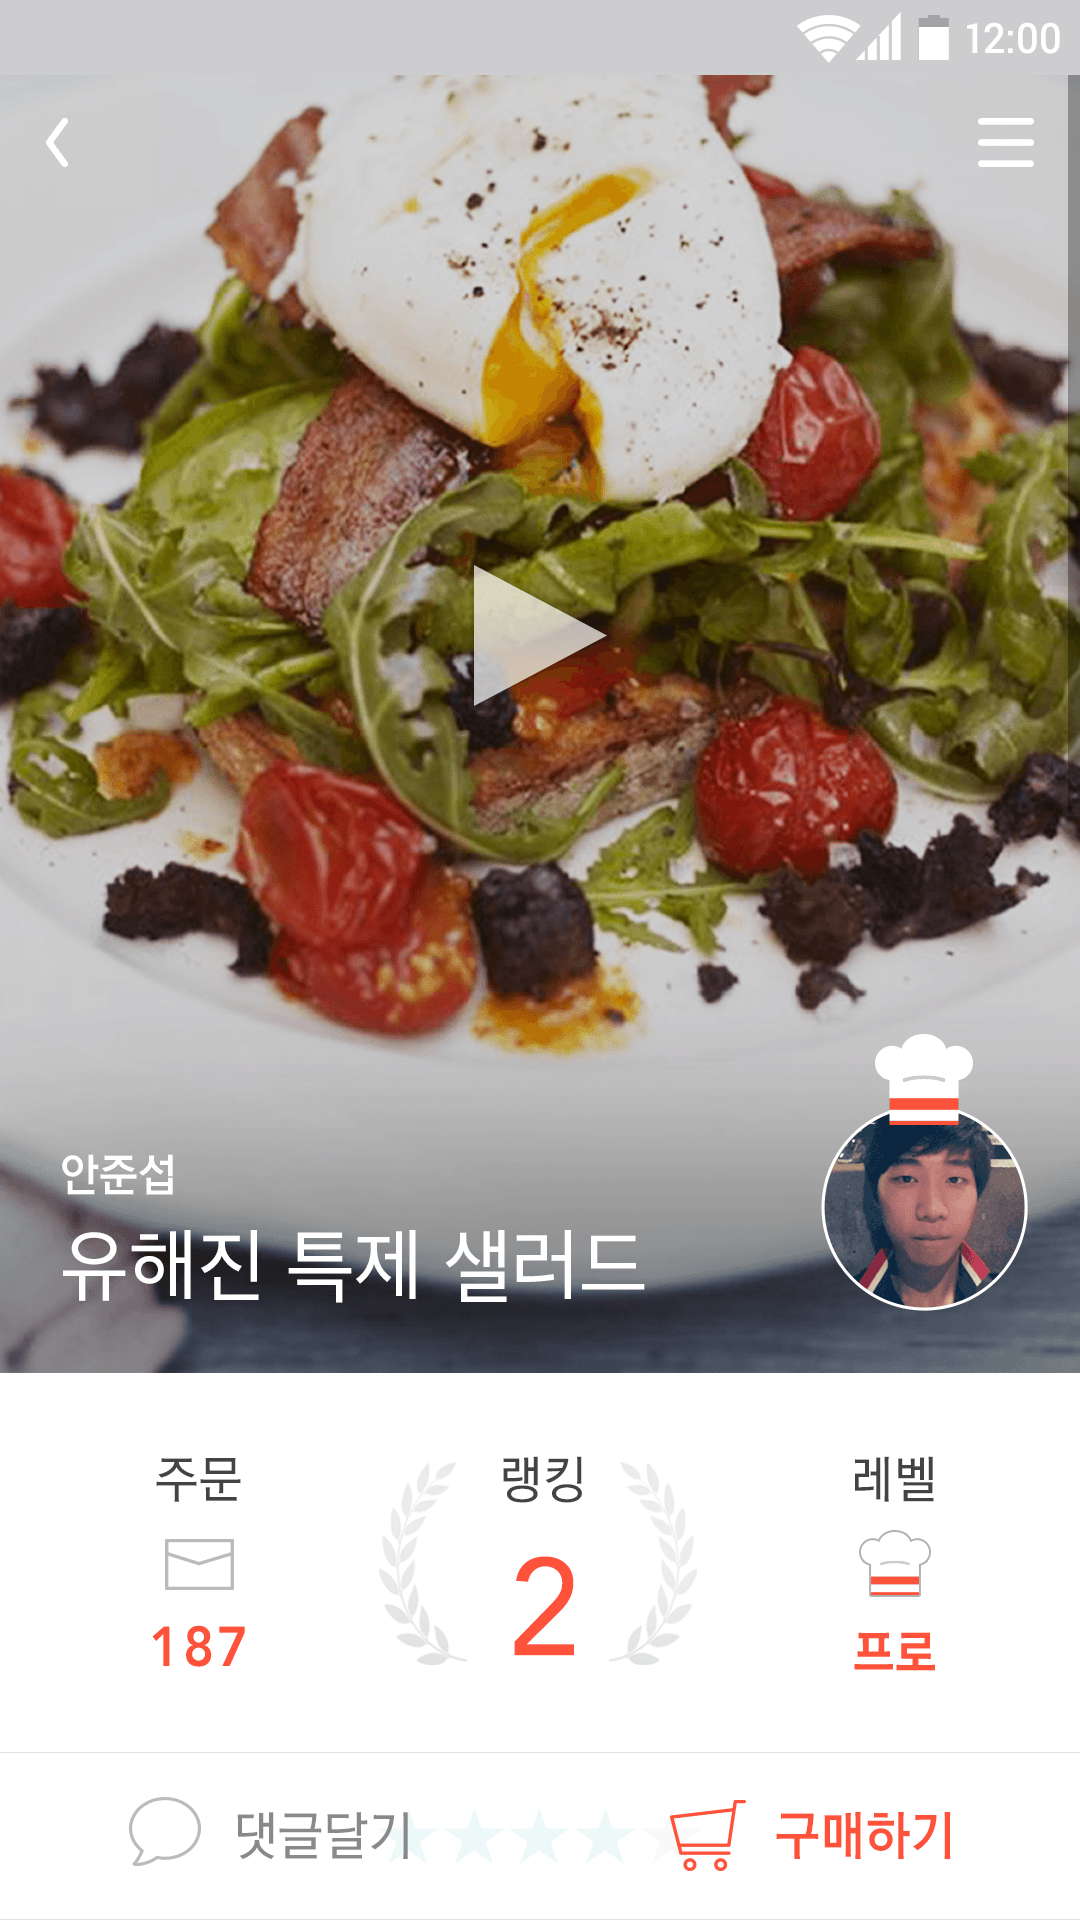

Screen size 1080px×1920px. Icon name, then its box in pixels as (x1, y1, x2, y2):
recipe page left: (46, 118, 68, 167)
tv category list statusbar: (797, 12, 1060, 63)
